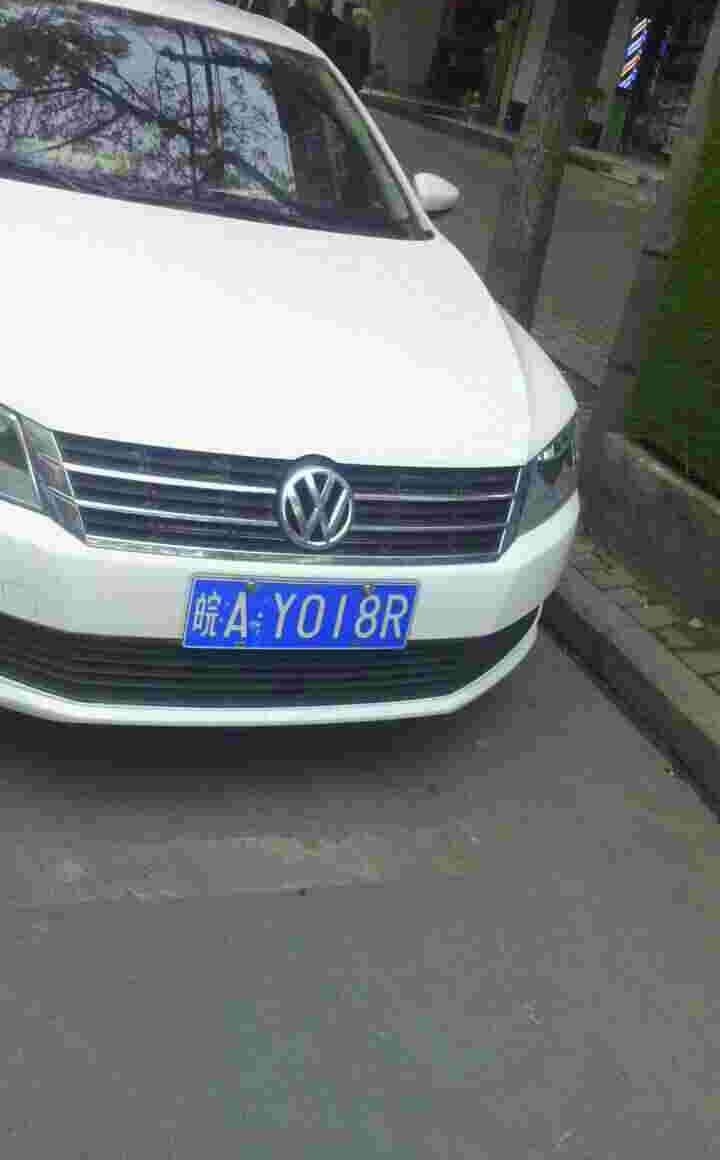license_plate: (190, 576, 408, 656)
